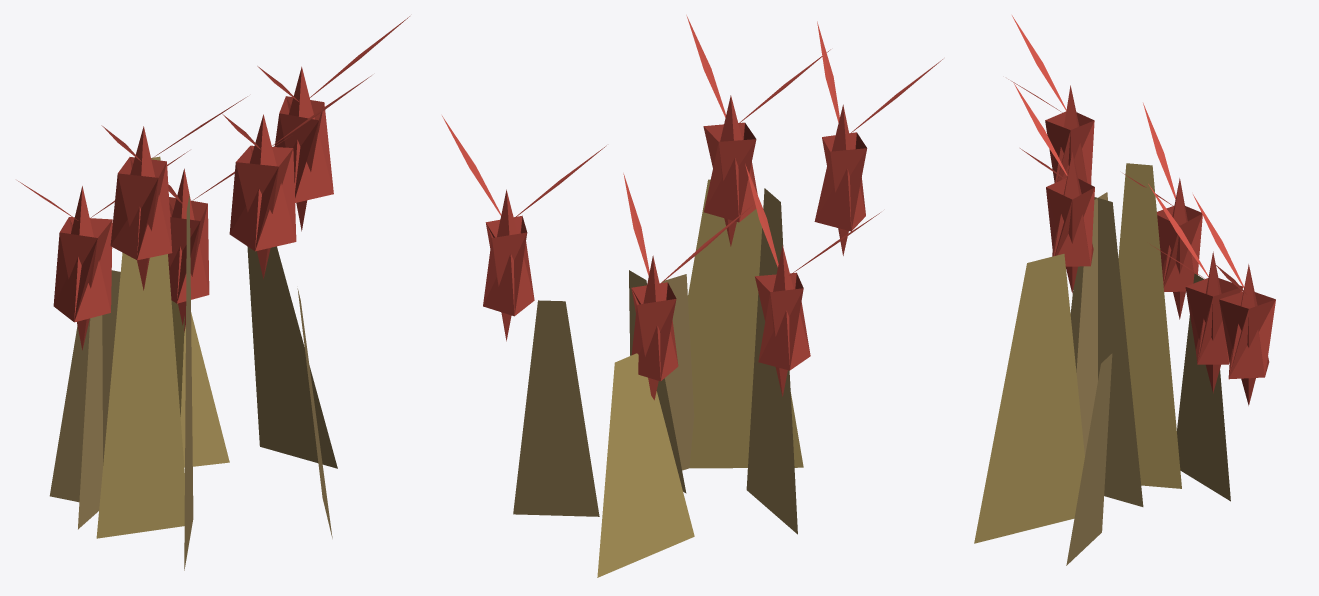
File: cao.yangmao@fruiting__autumn.glb
The picture shows the model from 3 angles, left to right: view 1: azimuth 30°, elevation 25°; view 2: azimuth 150°, elevation 25°; view 3: azimuth 270°, elevation 25°; orthographic projection. The views are drawn at different scales.
Parts seen in each view (by area): view 1: cao.yangmao@fruiting__autumn; view 2: cao.yangmao@fruiting__autumn; view 3: cao.yangmao@fruiting__autumn.
Boxes of the visible parts, x1,y1,x2,y2 form: cao.yangmao@fruiting__autumn: (17, 16, 409, 570); cao.yangmao@fruiting__autumn: (442, 15, 942, 577); cao.yangmao@fruiting__autumn: (974, 15, 1275, 565).
Bounding box in the file's own units: 0.6944 × 0.7396 × 0.525.
